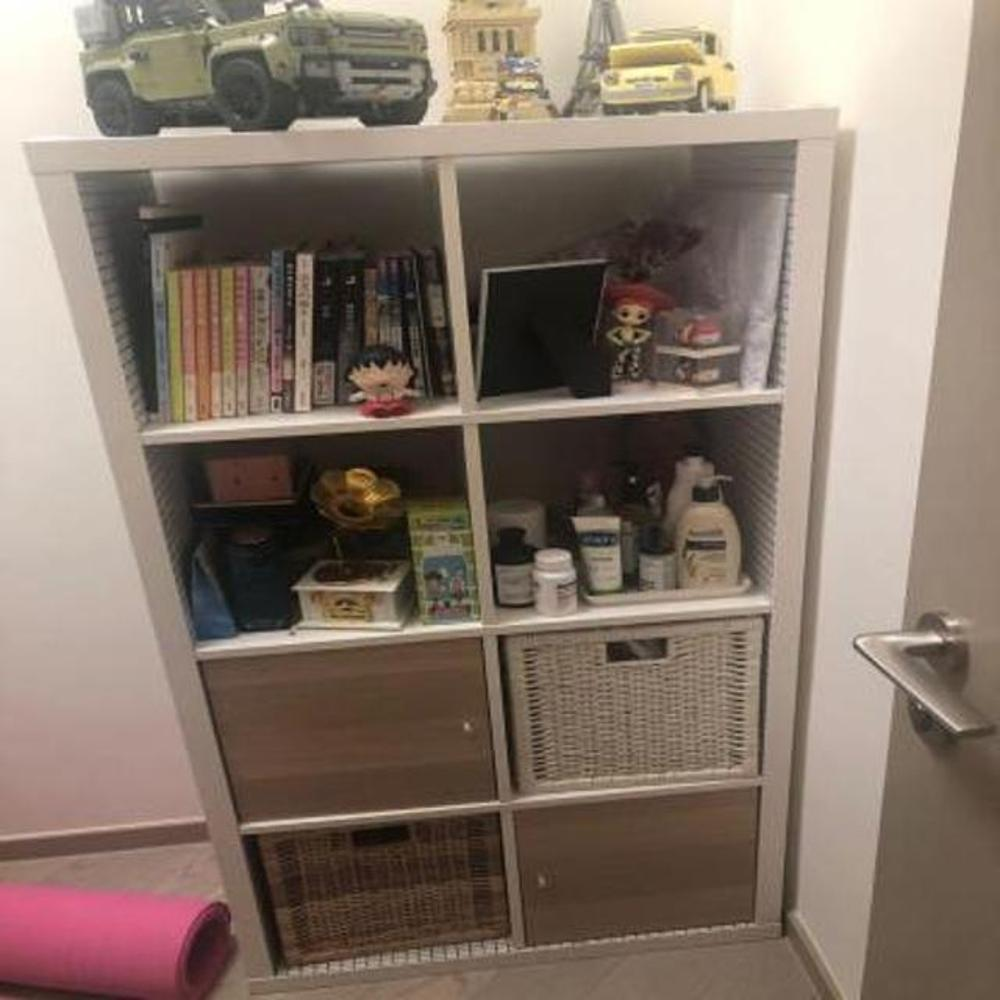lamp: (15, 104, 846, 999)
